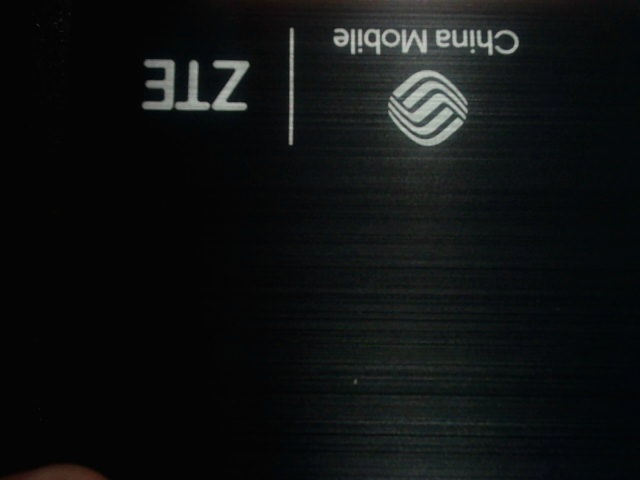AL_ZTEChinaMobile: (123, 17, 531, 164)
